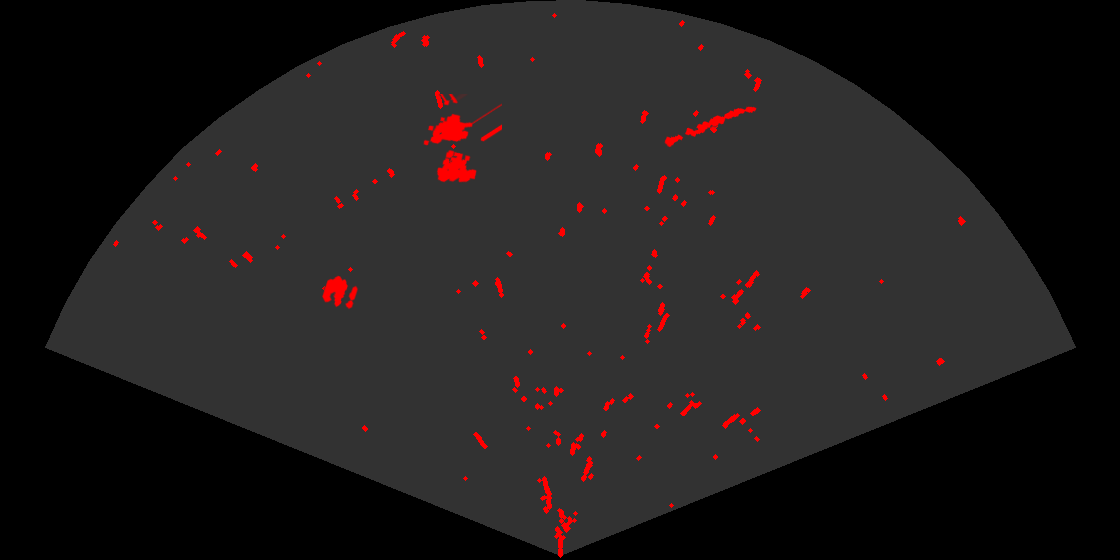ball: (321, 274, 360, 311)
cage: (422, 94, 502, 184)
chain: (663, 105, 758, 149)
